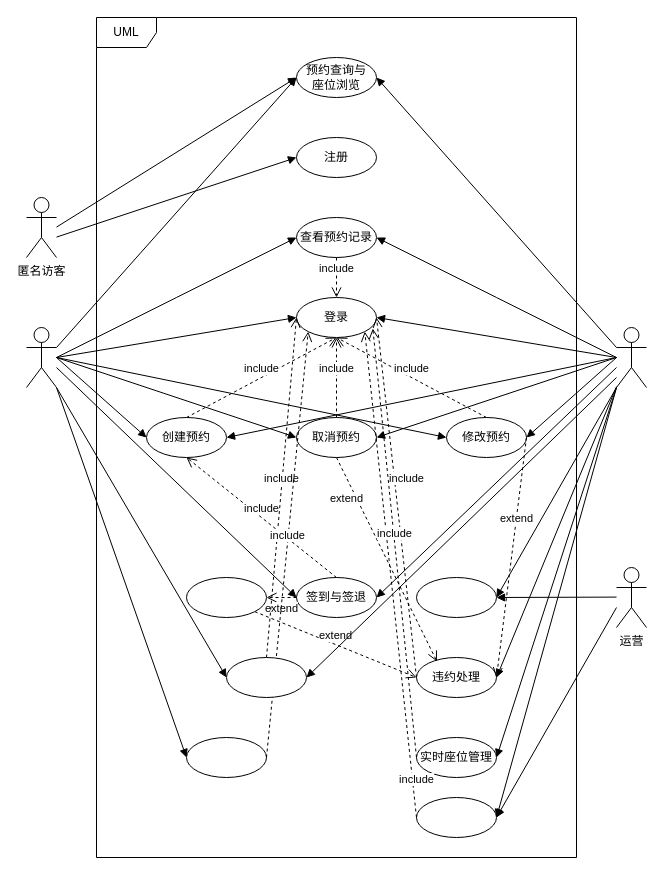
Image size: 666x875. Some labels were removed from this diagram. The centre of each missing label's shape, as x and y in pixels:
学生: pixel 41 357
投诉与评价: pixel 226 757
投诉与评价 处理: pixel 456 817
数据统计: pixel 456 597
查看违约记录: pixel 266 677
管理员: pixel 631 357
超时自动释放: pixel 226 597
